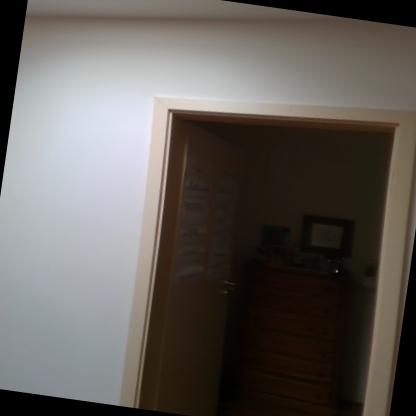open: (100, 63, 415, 415)
